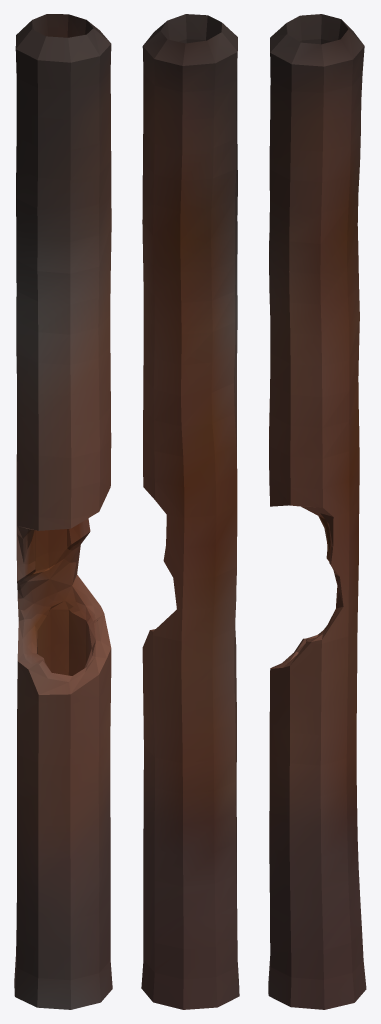
Rendered from Tuyau cassé.fbx.
3 renders of one model, left to right at view 1: azimuth 30°, elevation 25°; view 2: azimuth 210°, elevation 25°; view 3: azimuth 270°, elevation 25°, orthographic.
Parts seen in each view (by area): view 1: Cylindre 2; view 2: Cylindre 2; view 3: Cylindre 2.
Part boxes in pixels (x1,y1,x2,y2): Cylindre 2: [14, 14, 112, 1009]; Cylindre 2: [141, 14, 239, 1009]; Cylindre 2: [268, 14, 366, 1009].
Bounding box in the file's own units: 0.6628 × 7.08 × 0.6536.
